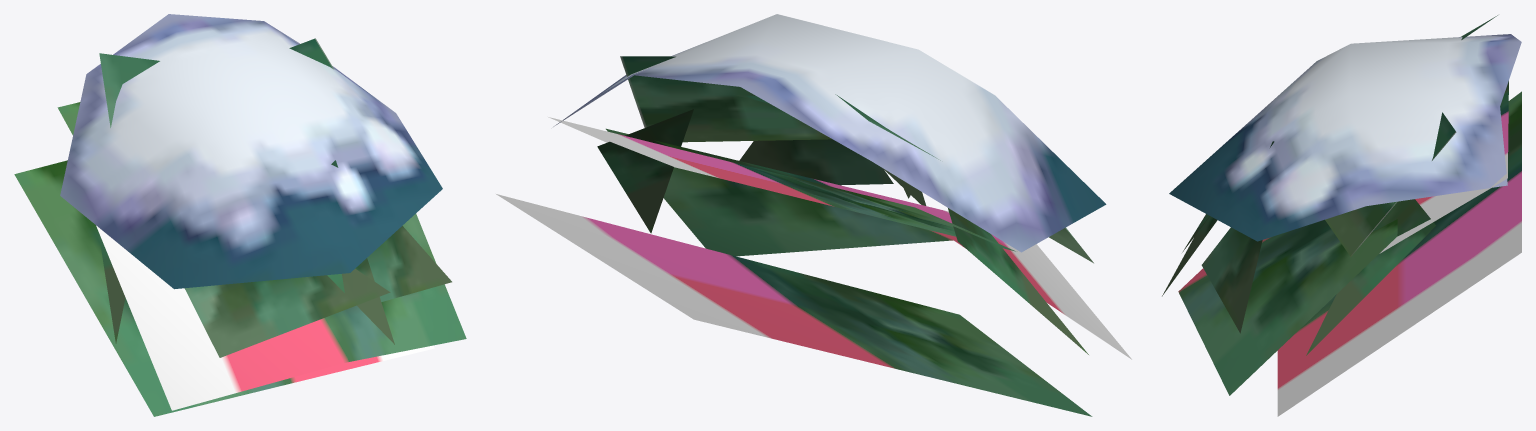
Rendered from fg_bushA_2_s.dae.
The picture shows the model from 3 angles, left to right: view 1: azimuth 30°, elevation 25°; view 2: azimuth 150°, elevation 25°; view 3: azimuth 270°, elevation 25°; orthographic projection. The views are drawn at different scales.
Visible parts, largest first — view 1: fg_bushA_2_s; view 2: fg_bushA_2_s; view 3: fg_bushA_2_s.
Part boxes in pixels (x1=…): fg_bushA_2_s: x1=14, y1=14, x2=466, y2=416; fg_bushA_2_s: x1=496, y1=14, x2=1131, y2=416; fg_bushA_2_s: x1=1162, y1=15, x2=1521, y2=416.
Bounding box in the file's own units: 42.31 × 35.32 × 38.65.
1 material, 1 textured.
